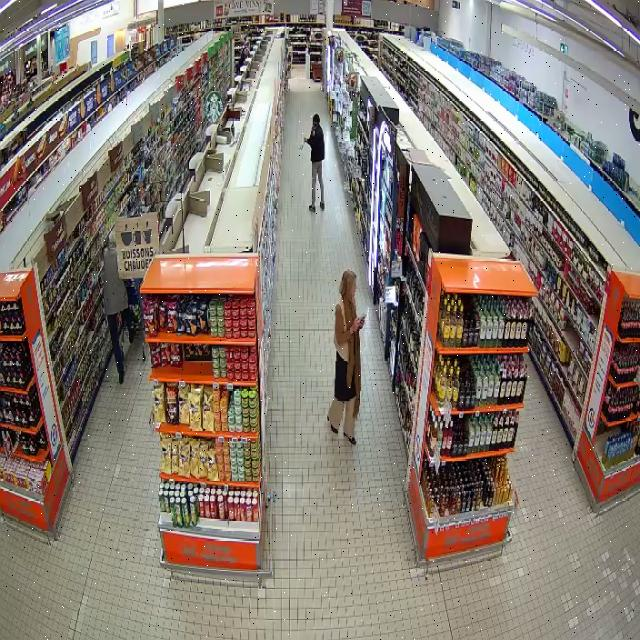article: (298, 139, 305, 153)
hands: (350, 318, 363, 334), (304, 138, 308, 143)
person: (327, 269, 365, 443), (103, 229, 135, 383), (304, 113, 325, 211)
